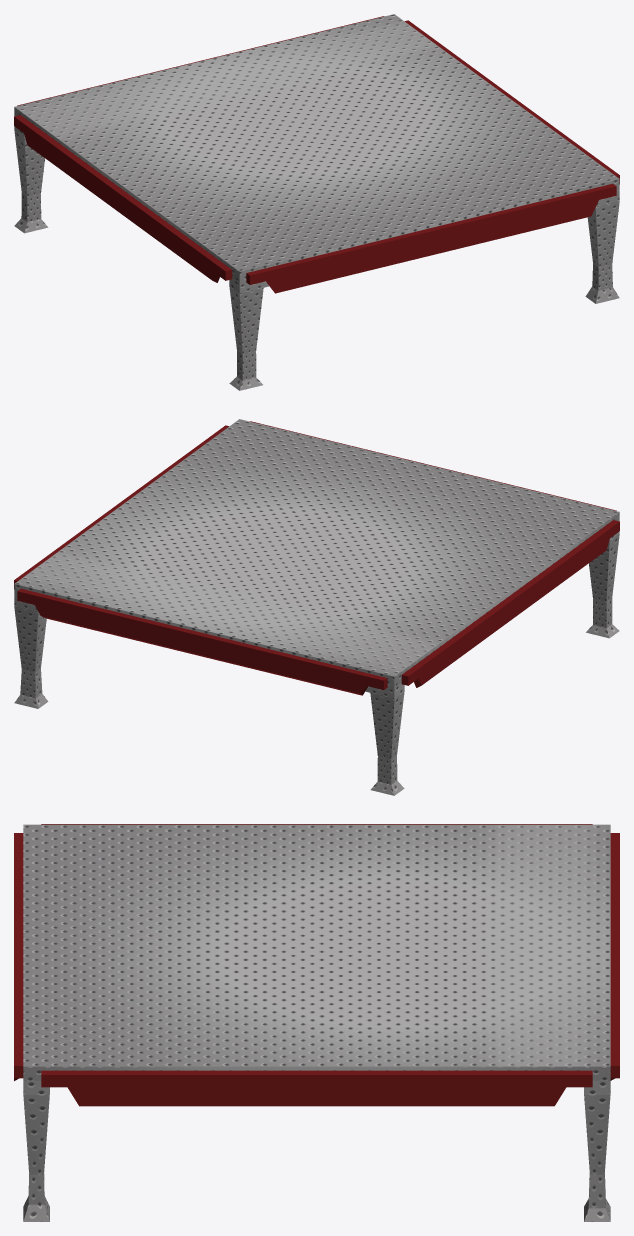
File: Mesh_Static_Estante_03.fbx
3 views of the same model, one above another, from view 1: azimuth 30°, elevation 25°; view 2: azimuth 150°, elevation 25°; view 3: azimuth 270°, elevation 25° (orthographic). The views are drawn at different scales.
Parts seen in each view (by area): view 1: Cube.043; view 2: Cube.043; view 3: Cube.043.
Boxes of the visible parts, x1,y1,x2,y2 form: Cube.043: (14, 14, 619, 390); Cube.043: (14, 419, 619, 795); Cube.043: (14, 824, 619, 1221).
Size of the model in its own units: 1101 by 318 by 1124.
